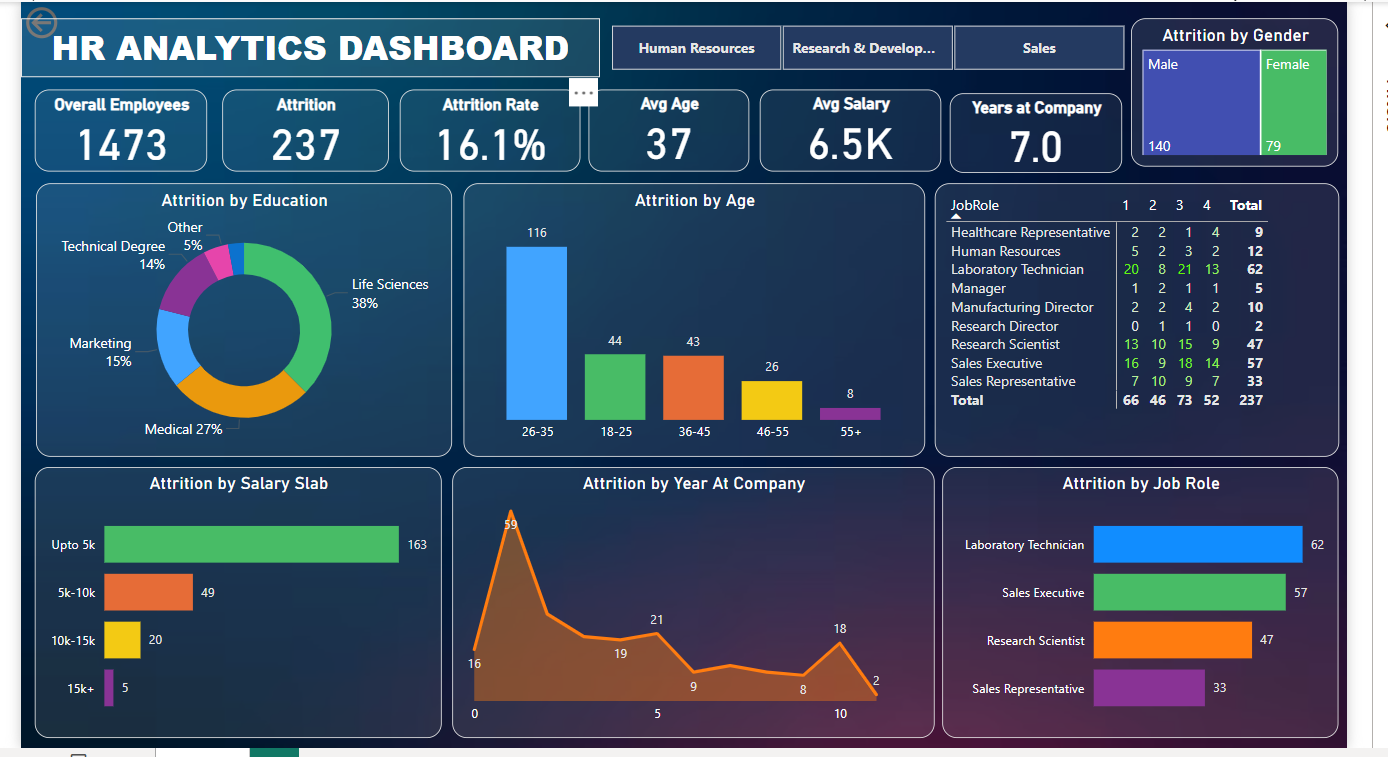

Layout of this report page (visuals, bound fields, positions):
{"tool":"powerbi","page":{"name":"Page 1","canvas":[1280,720],"ordinal":0},"visuals":[{"type":"card","title":"Overall Employees","fields":{"Values":["CountNonNull(HR_Analytics.EmpID)"]},"box":[13.6,84,166.7,79],"z":0},{"type":"card","title":"Attrition Rate","fields":{"Values":["HR_Analytics.AttritionRate"]},"box":[365.4,84,174.1,79],"z":1000},{"type":"card","title":"Attrition","fields":{"Values":["Sum(HR_Analytics.AttritionCount)"]},"box":[193.8,84,160.5,79],"z":2000},{"type":"card","title":"Avg Age","fields":{"Values":["Avg(HR_Analytics.Age)"]},"box":[548.1,84,155.6,79],"z":3000},{"type":"card","title":"Avg Salary ","fields":{"Values":["Avg(HR_Analytics.MonthlyIncome)"]},"box":[713.6,84,175.3,79],"z":4000},{"type":"card","title":"Years at Company","fields":{"Values":["Avg(HR_Analytics.YearsAtCompany)"]},"box":[896.3,87.7,166.7,76.5],"z":5000},{"type":"donutChart","title":" Attrition by Education","fields":{"Category":["HR_Analytics.EducationField"],"Y":["Sum(HR_Analytics.AttritionCount)"]},"box":[14.8,175.3,401.2,264.2],"z":6000},{"type":"columnChart","title":" Attrition by Age","fields":{"Category":["HR_Analytics.AgeGroup"],"Y":["Sum(HR_Analytics.AttritionCount)"]},"box":[427.2,175.3,445.7,264.2],"z":7000},{"type":"pivotTable","fields":{"Rows":["HR_Analytics.JobRole"],"Columns":["HR_Analytics.JobSatisfaction"],"Values":["Sum(HR_Analytics.AttritionCount)"]},"box":[881.5,175.3,390.1,264.2],"z":8000},{"type":"barChart","title":" Attrition by Salary Slab","fields":{"Category":["HR_Analytics.SalarySlab"],"Y":["Sum(HR_Analytics.AttritionCount)"]},"box":[13.6,449.4,392.6,261.7],"z":9000},{"type":"barChart","title":" Attrition by Job Role","fields":{"Category":["HR_Analytics.JobRole"],"Y":["Sum(HR_Analytics.AttritionCount)"]},"box":[888.9,449.4,382.7,261.7],"z":10000},{"type":"areaChart","title":" Attrition by Year At Company","fields":{"Category":["HR_Analytics.YearsAtCompany"],"Y":["Sum(HR_Analytics.AttritionCount)"]},"box":[416.1,449.4,465.4,261.7],"z":11000},{"type":"treemap","title":" Attrition by Gender","fields":{"Group":["HR_Analytics.Gender"],"Values":["Sum(HR_Analytics.AttritionCount)"]},"box":[1071.3,15.7,200.3,143.6],"z":12000},{"type":"slicer","fields":{"Values":["HR_Analytics.Department"]},"box":[544.4,16,544.4,56.8],"z":13000},{"type":"actionButton","box":[0,0,100,40],"z":14000},{"type":"textbox","box":[0,15.7,558.6,56.7],"z":15000}]}

Visuals, with their boxes in screenshot pixels (x1, y1, x2, y2):
"Overall Employees" card: detection(39, 91, 212, 172)
"Attrition Rate" card: detection(403, 91, 584, 172)
"Attrition" card: detection(226, 91, 392, 172)
"Avg Age" card: detection(592, 91, 753, 172)
"Avg Salary " card: detection(764, 91, 945, 172)
"Years at Company" card: detection(953, 94, 1125, 174)
" Attrition by Education" donutChart: detection(41, 185, 456, 458)
" Attrition by Age" columnChart: detection(467, 185, 929, 458)
pivotTable - HR_Analytics.JobRole x HR_Analytics.JobSatisfaction: detection(937, 185, 1341, 458)
" Attrition by Salary Slab" barChart: detection(39, 469, 446, 739)
" Attrition by Job Role" barChart: detection(945, 469, 1341, 739)
" Attrition by Year At Company" areaChart: detection(456, 469, 937, 739)
" Attrition by Gender" treemap: detection(1134, 20, 1341, 168)
slicer - HR_Analytics.Department: detection(589, 20, 1152, 79)
actionButton: detection(25, 4, 129, 45)
textbox: detection(25, 20, 603, 79)
